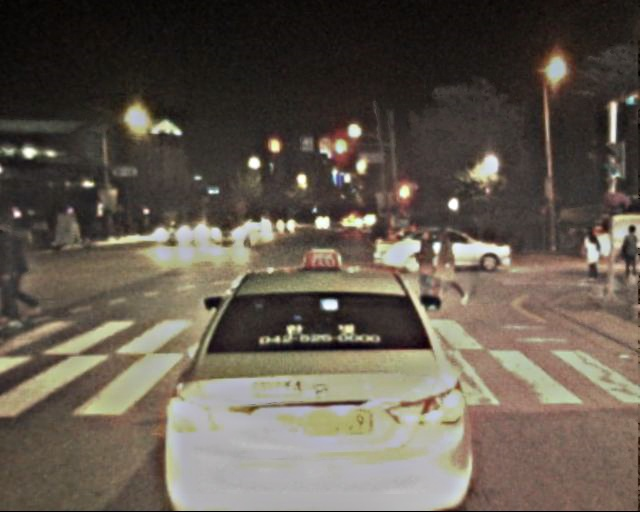person: (1, 215, 41, 328), (436, 230, 469, 310), (413, 230, 444, 306), (579, 227, 607, 296), (615, 232, 639, 290)
